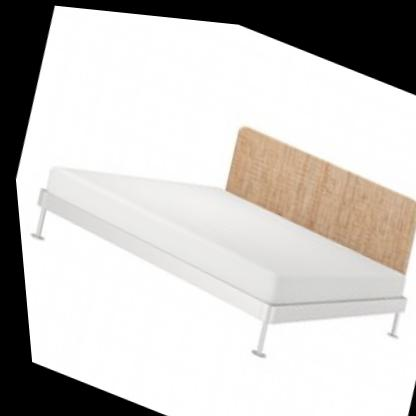Bed: (2, 23, 416, 416)
